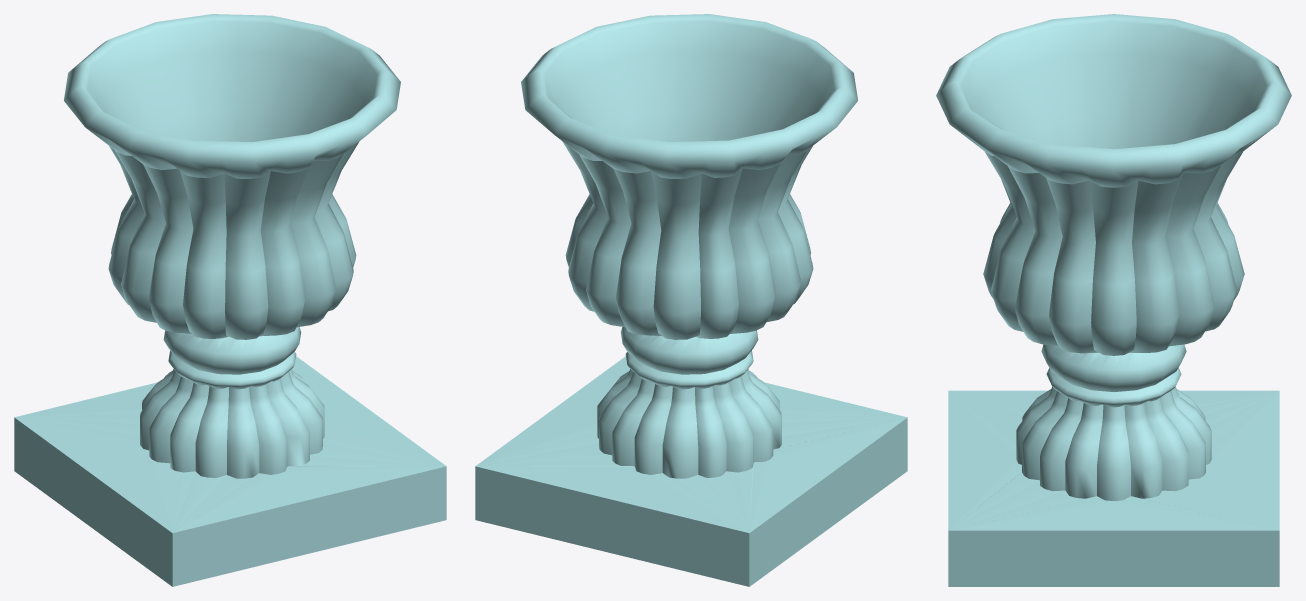
Rendered from VasoRomano.fbx.
The picture shows the model from 3 angles, left to right: view 1: azimuth 30°, elevation 25°; view 2: azimuth 150°, elevation 25°; view 3: azimuth 270°, elevation 25°; orthographic projection. The views are drawn at different scales.
Visible parts, largest first — view 1: VasoRomano; view 2: VasoRomano; view 3: VasoRomano.
Part boxes in pixels (<box>): VasoRomano: <box>14,14,446,586</box>; VasoRomano: <box>475,14,907,586</box>; VasoRomano: <box>936,14,1291,586</box>.
Size of the model in its own units: 46.25 by 62.58 by 46.25.
